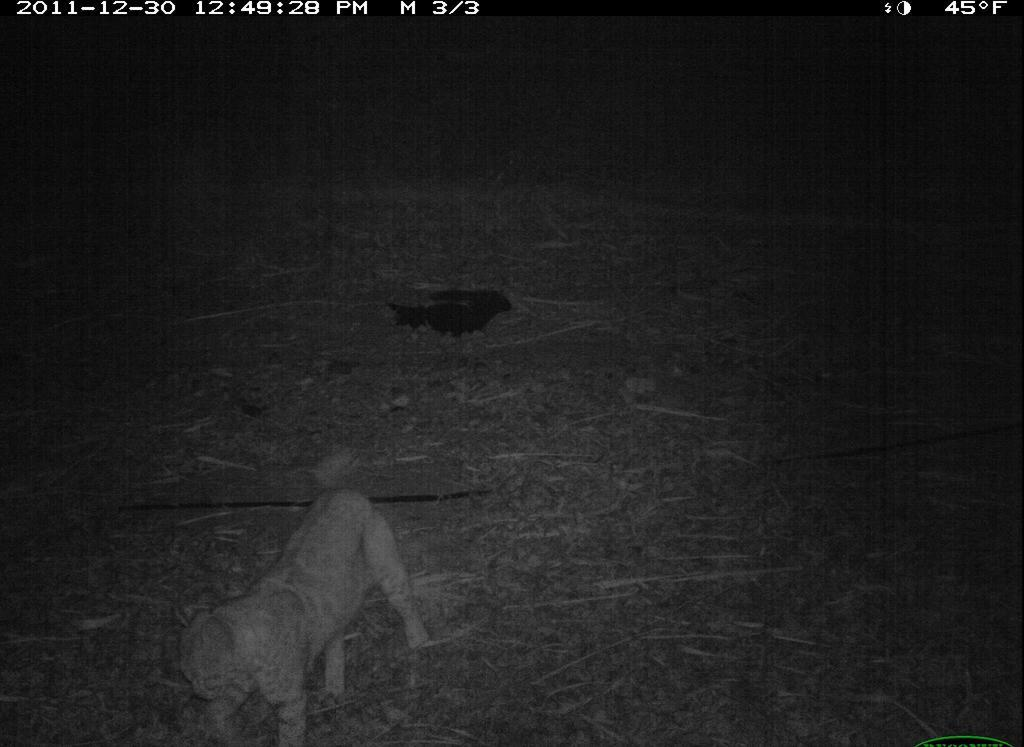bobcat: (163, 483, 450, 747)
